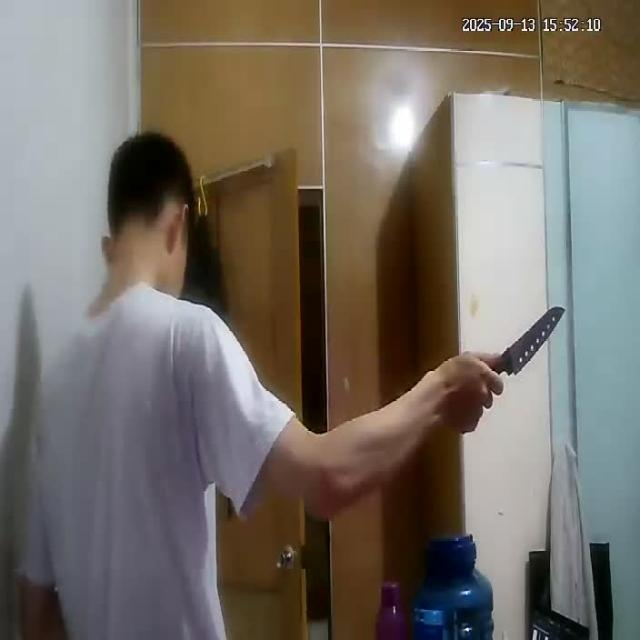senjata_tajam: (502, 303, 568, 378)
